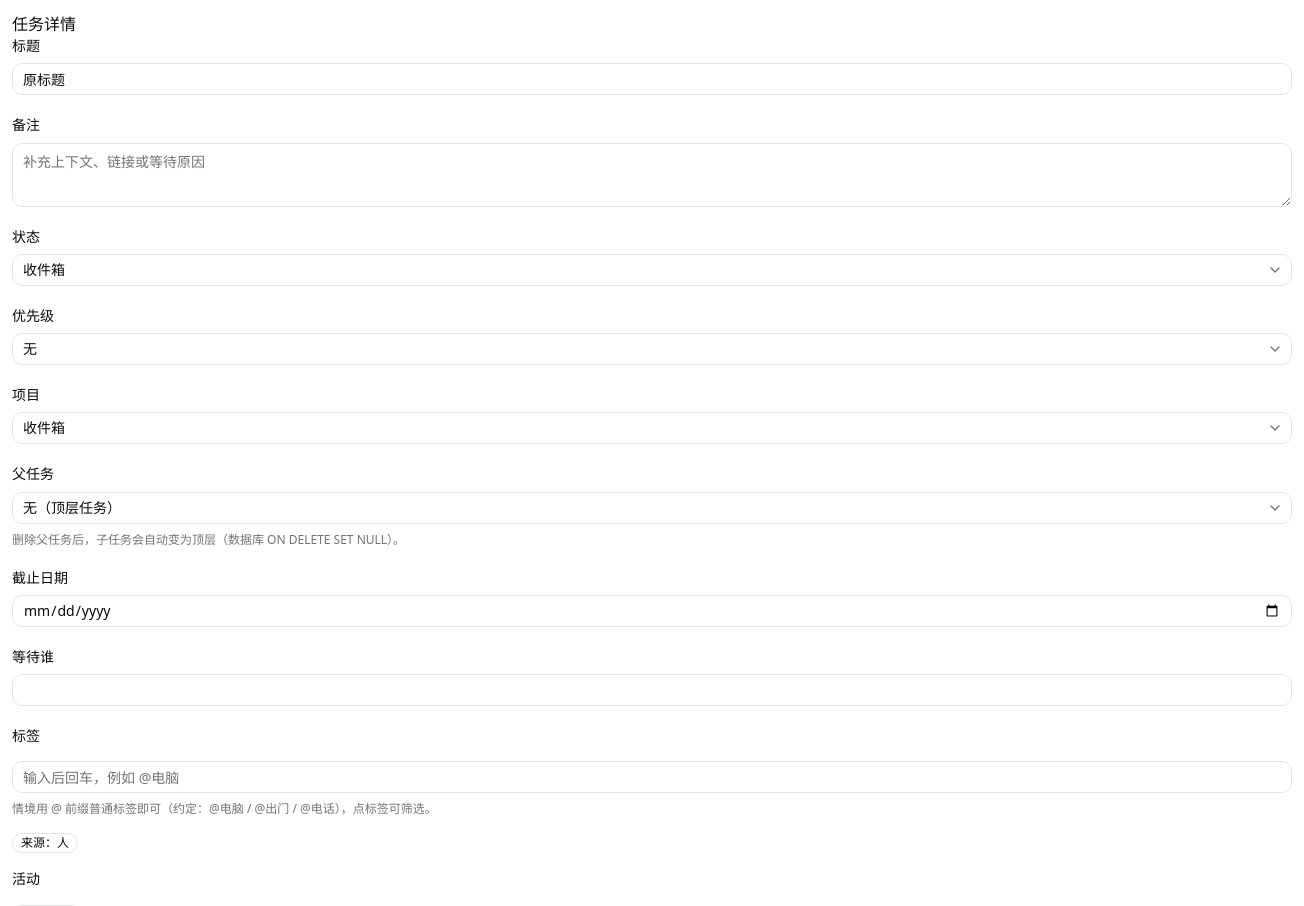
Test: task detail autosave (#115) › 5xx 仍然可以重试（「重试」是单独的按钮，可 Tab 聚焦）
Step 1. Type "x" into the text box labelled "备注" → [652, 174], box [12,142,1292,206]
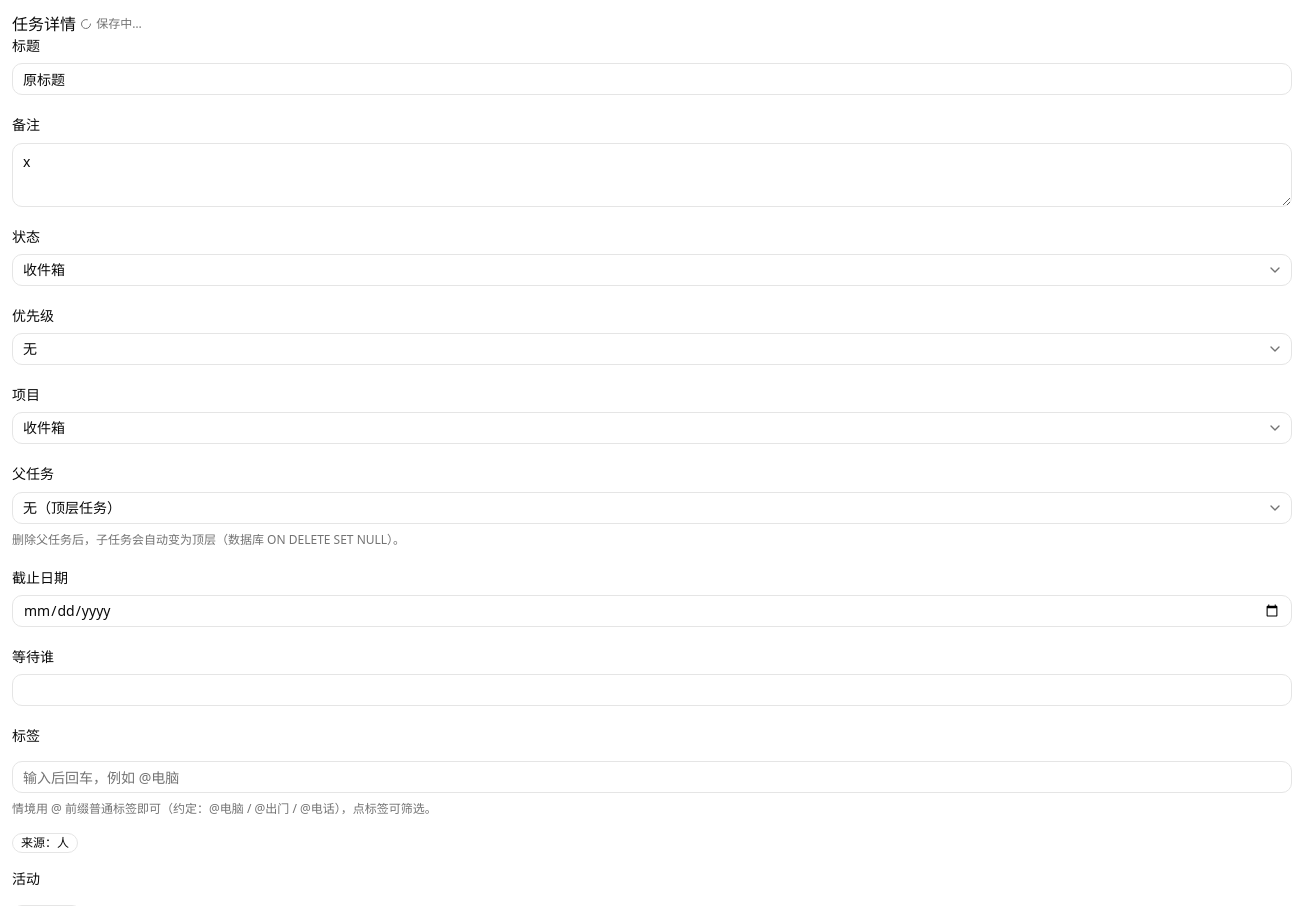
Step 2. Leave the text box labelled "备注", box [12,142,1292,206]
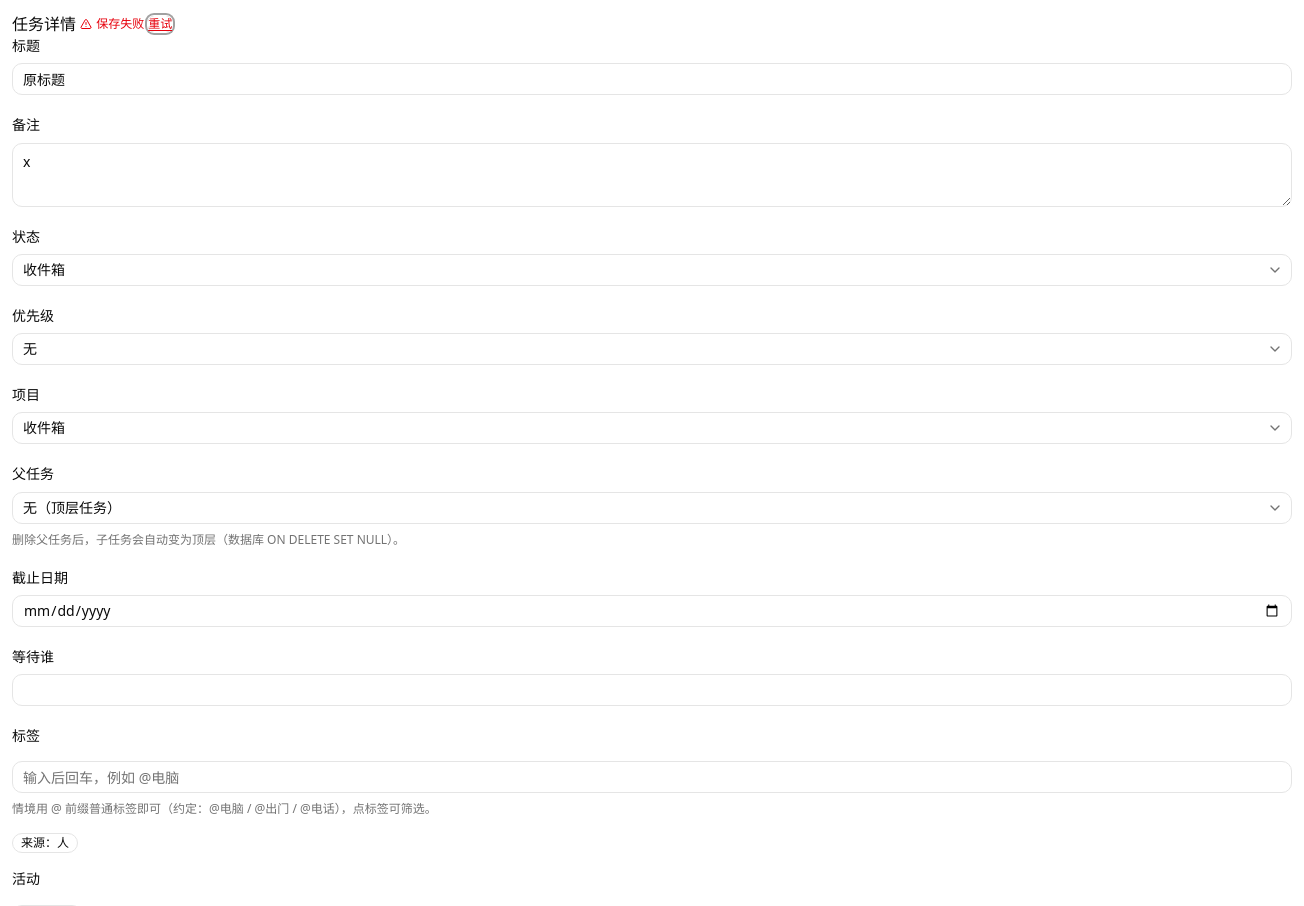
Check: the message "保存失败 重试" has attribute data-save-status="error", box [80,15,172,32]
Step 3. Click the button "重试" → [160, 24], box [148,16,172,32]
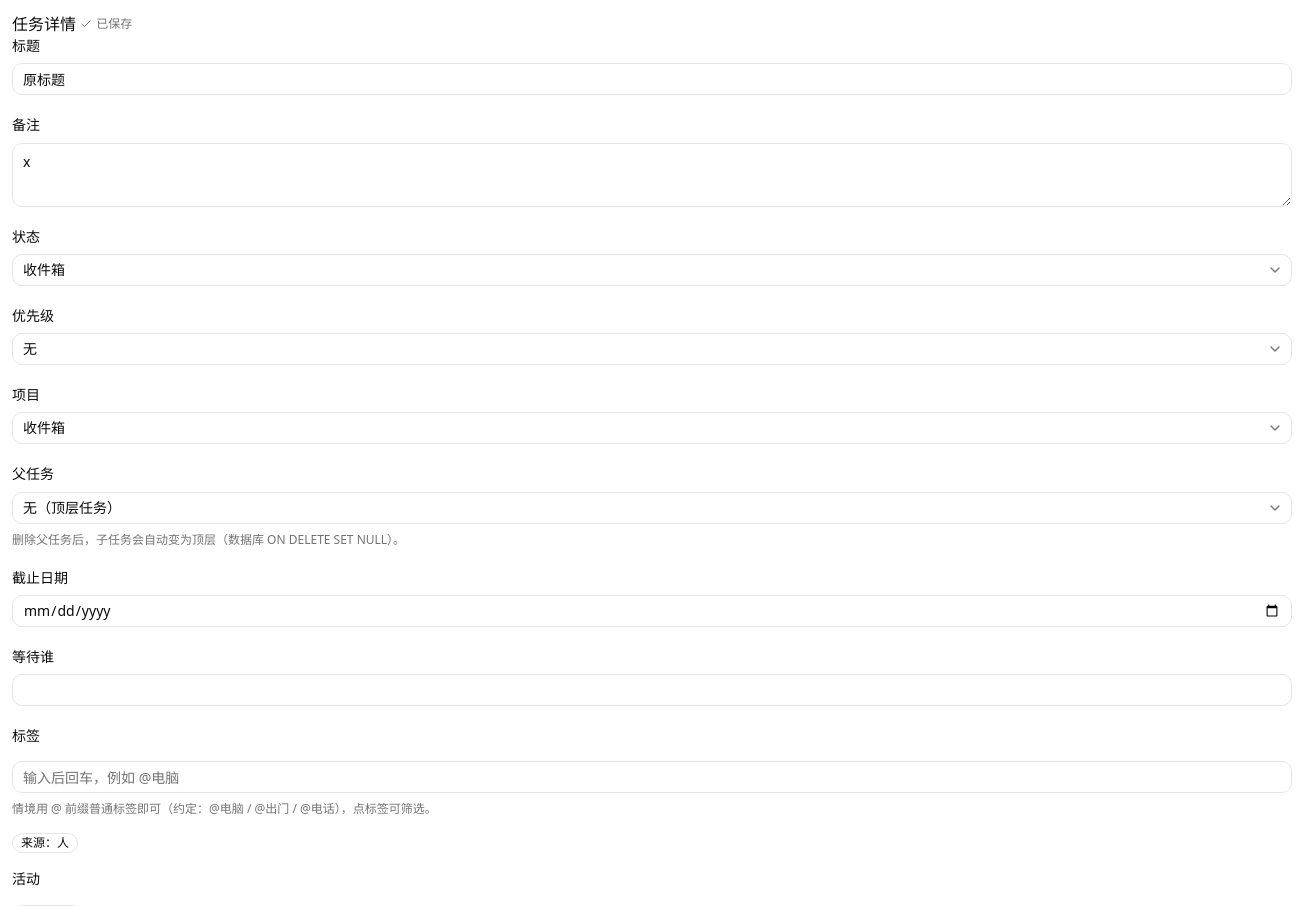
Check: the text "已保存" is shown, box [96,16,132,32]
